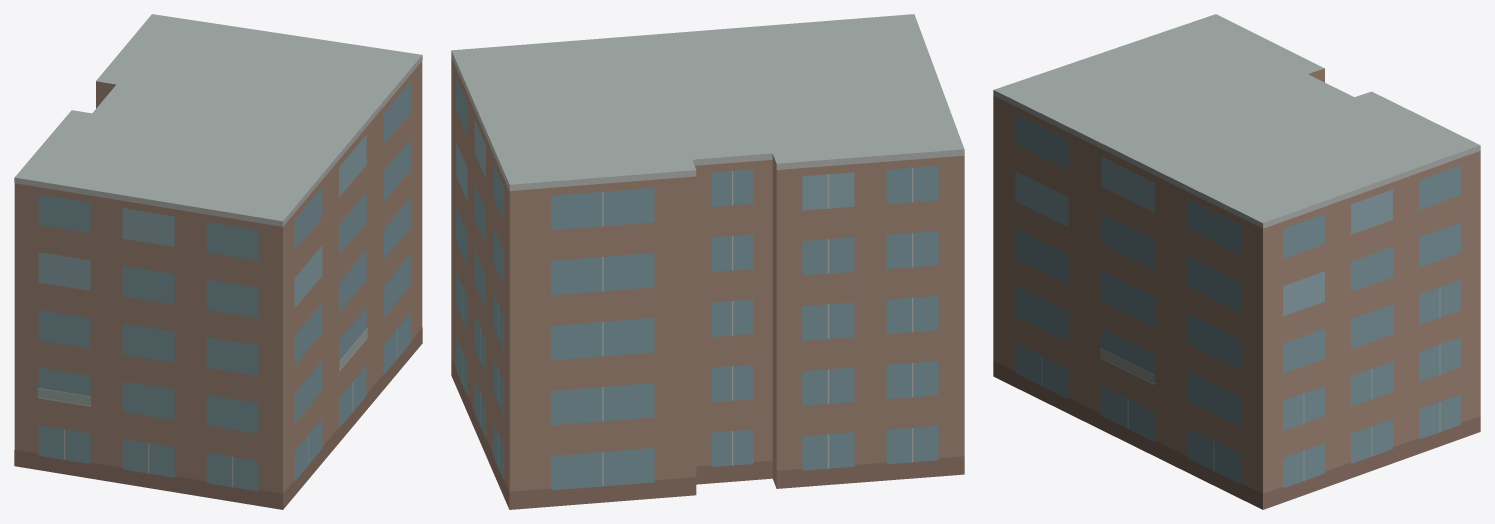
File: survey-upis-32676626.glb
3 views of the same model, side by side, from view 1: azimuth 30°, elevation 25°; view 2: azimuth 150°, elevation 25°; view 3: azimuth 270°, elevation 25° (orthographic). The views are drawn at different scales.
Visible parts, largest first — view 1: survey-upis-32676626.tmp; view 2: survey-upis-32676626.tmp; view 3: survey-upis-32676626.tmp.
Part boxes in pixels (x1,y1,x2,y2): survey-upis-32676626.tmp: [14, 14, 422, 509]; survey-upis-32676626.tmp: [451, 14, 964, 509]; survey-upis-32676626.tmp: [993, 14, 1480, 509].
Bounding box in the file's own units: 19.74 × 12.6 × 19.41.
